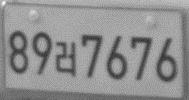6: (154, 37, 178, 83), (106, 36, 127, 80)
7: (80, 33, 103, 78), (130, 35, 152, 81)
8: (7, 29, 30, 75)
9: (31, 30, 52, 76)
러: (53, 40, 78, 77)
